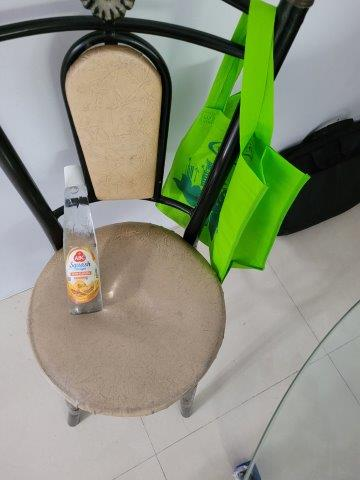botolkaca: (62, 164, 104, 315)
